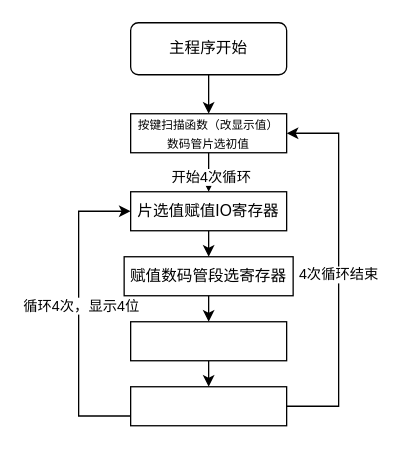
Image size: 400x450. Some labels were removed from this diagram. The box of each missing label's shape, as (x1, y1, x2, y2) in pixels:
片选值左移，准备 显示下一位: (129, 320, 287, 361)
适当阻塞式延时: (129, 385, 287, 426)
